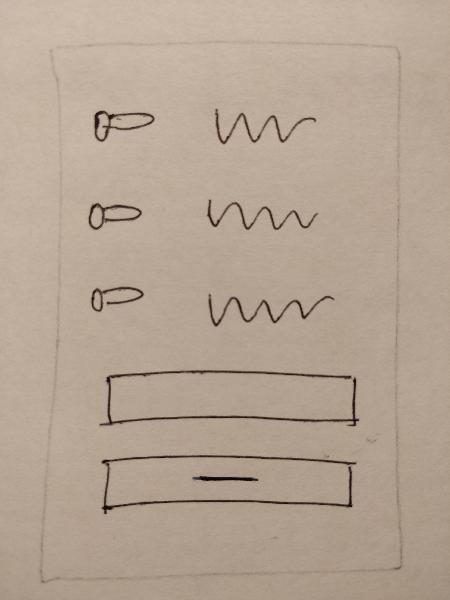button: (91, 446, 360, 520)
switch: (83, 99, 165, 151), (78, 273, 153, 322), (80, 194, 149, 240)
text: (199, 282, 345, 341), (203, 97, 323, 152), (195, 189, 322, 240)
text_input: (94, 364, 368, 436)
